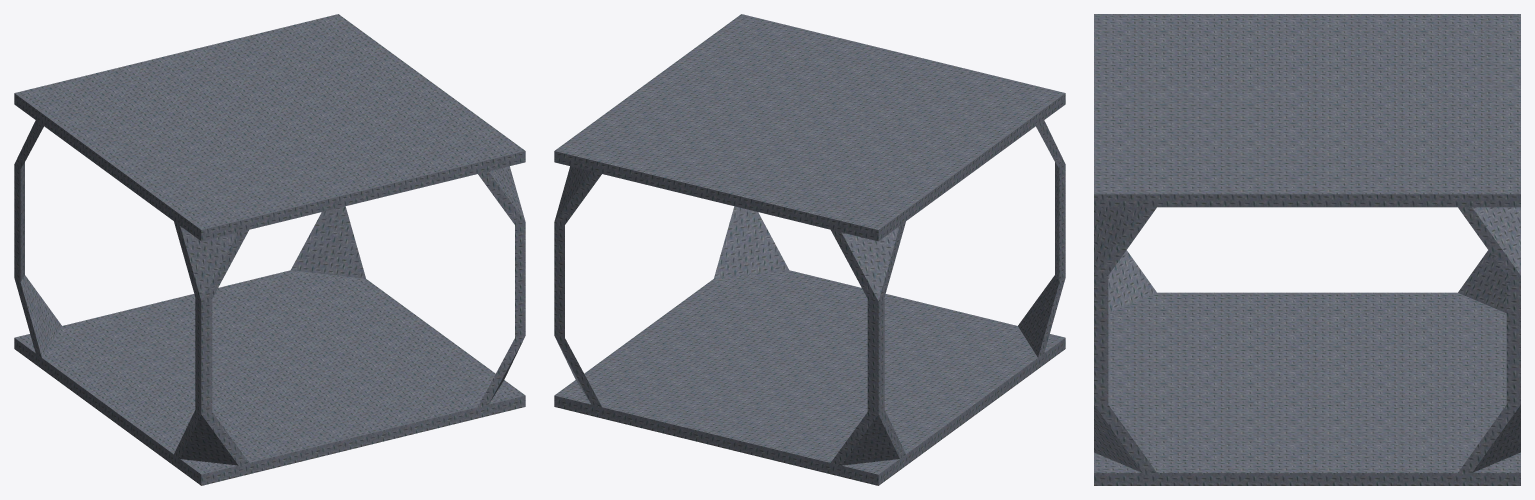
3 renders of one model, left to right at view 1: azimuth 30°, elevation 25°; view 2: azimuth 150°, elevation 25°; view 3: azimuth 270°, elevation 25°, orthographic. The views are drawn at different scales.
Visible parts, largest first — view 1: SketchUp_ID3.005; view 2: SketchUp_ID3.005; view 3: SketchUp_ID3.005.
Part boxes in pixels (left/top/right/bottom): SketchUp_ID3.005: left=14, top=14, right=525, bottom=485; SketchUp_ID3.005: left=554, top=14, right=1065, bottom=485; SketchUp_ID3.005: left=1094, top=14, right=1520, bottom=485.
Bounding box in the file's own units: 3 × 2.26 × 3.
Materials: 1 (1 with a texture image).
